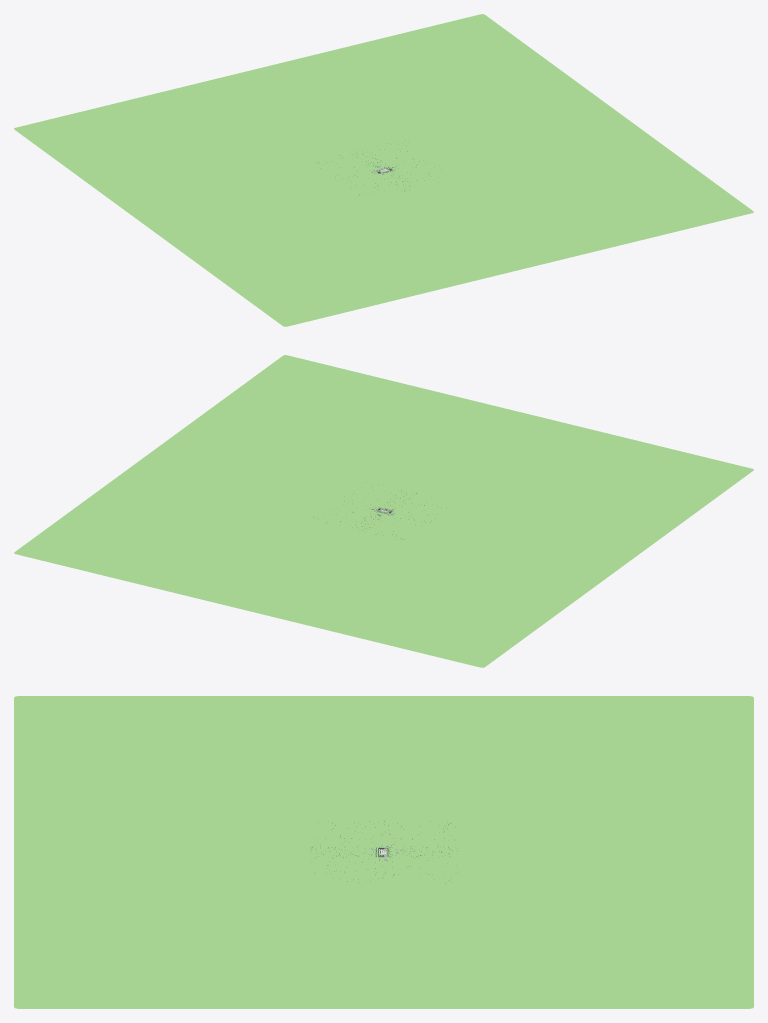
File: PATY_Planta_v9.glb
3 views of the same model, one above another, from view 1: azimuth 30°, elevation 25°; view 2: azimuth 150°, elevation 25°; view 3: azimuth 270°, elevation 25° (orthographic). The views are drawn at different scales.
Visible parts, largest first — view 1: PATY_Planta_Visual; view 2: PATY_Planta_Visual; view 3: PATY_Planta_Visual.
Boxes of the visible parts, x1,y1,x2,y2 form: PATY_Planta_Visual: [14, 14, 753, 326]; PATY_Planta_Visual: [14, 355, 753, 667]; PATY_Planta_Visual: [14, 696, 753, 1008].
Bounding box in the file's own units: 9000 × 17.9 × 9000.
Materials: 92 (1 with a texture image).
